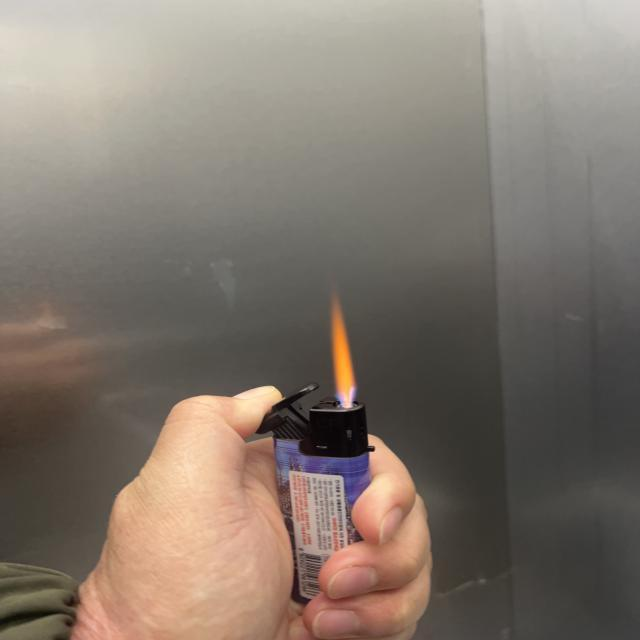fire: (329, 293, 359, 405)
